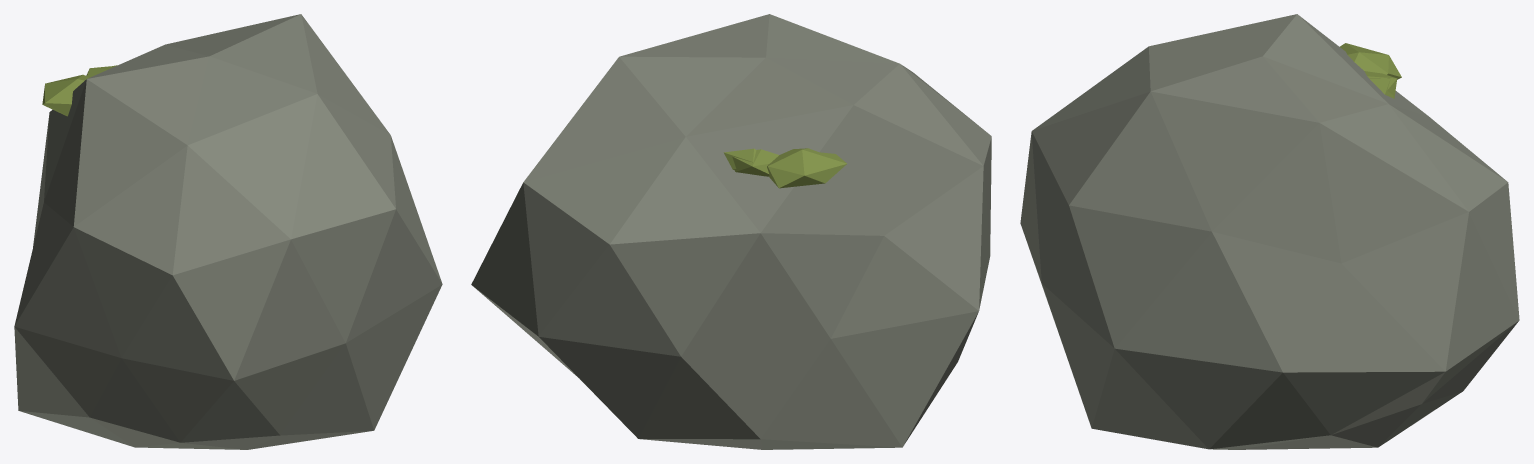
File: BP_Moss_Rock_3.fbx
3 views of the same model, side by side, from view 1: azimuth 30°, elevation 25°; view 2: azimuth 150°, elevation 25°; view 3: azimuth 270°, elevation 25° (orthographic).
Visible parts, largest first — view 1: BP_Moss_Rock_3; view 2: BP_Moss_Rock_3; view 3: BP_Moss_Rock_3.
Boxes of the visible parts, left/top/right/bottom form: BP_Moss_Rock_3: left=14, top=14, right=442, bottom=449; BP_Moss_Rock_3: left=471, top=14, right=991, bottom=449; BP_Moss_Rock_3: left=1020, top=14, right=1519, bottom=449.
Bounding box in the file's own units: 266 × 215 × 276.
